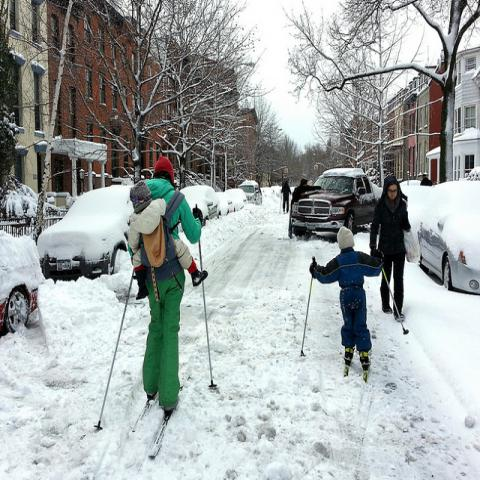car: (36, 184, 134, 280), (417, 179, 479, 294), (291, 166, 382, 241), (0, 234, 43, 339), (179, 187, 222, 225), (238, 182, 263, 205), (225, 188, 248, 211), (216, 191, 236, 214)
